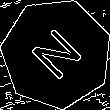N_SE: (24, 22, 88, 86)
